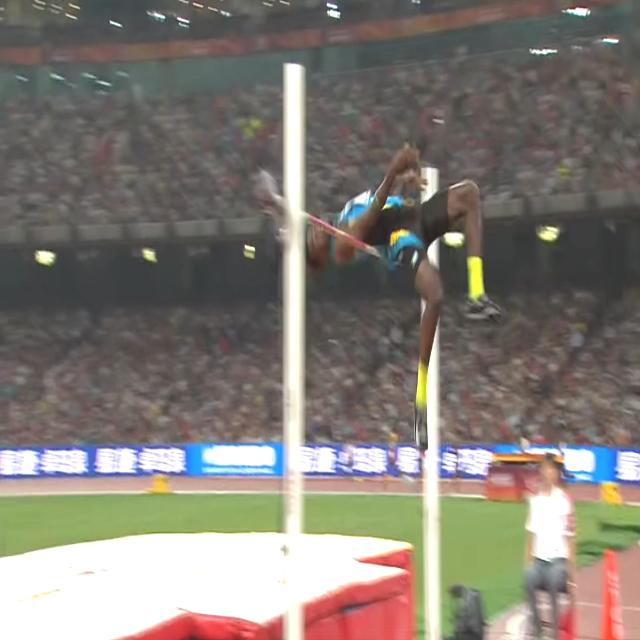jump: (306, 141, 502, 455)
